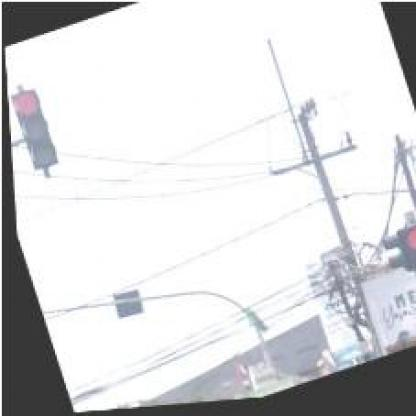red: (5, 83, 58, 174), (396, 224, 414, 312)
